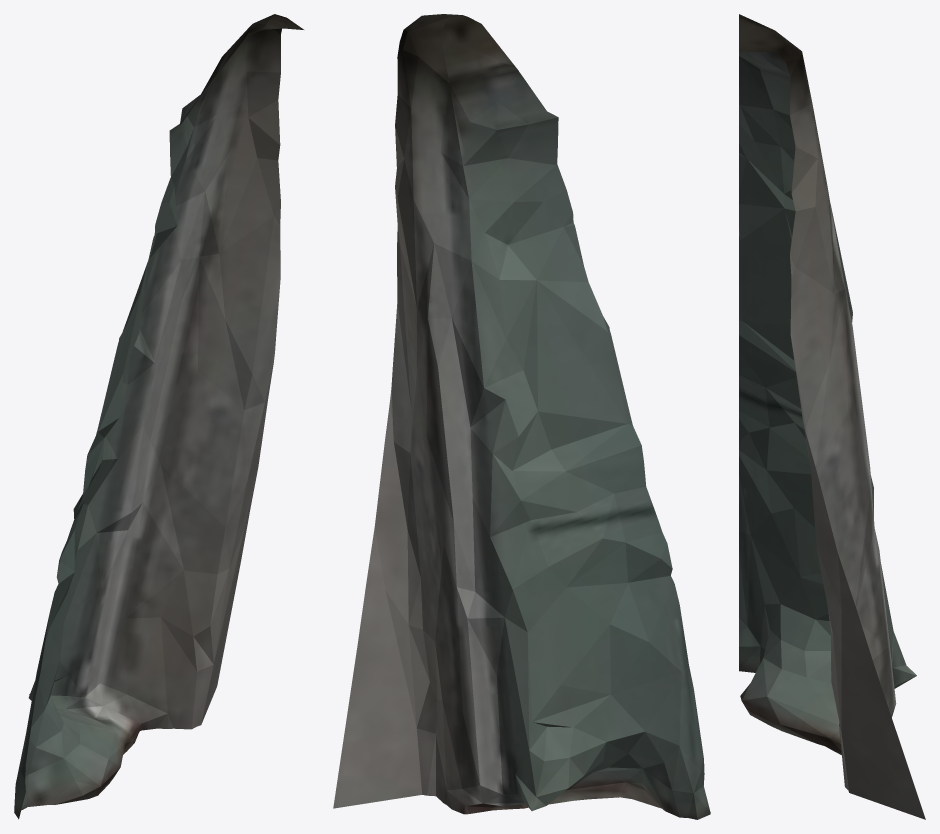
3 renders of one model, left to right at view 1: azimuth 30°, elevation 25°; view 2: azimuth 150°, elevation 25°; view 3: azimuth 270°, elevation 25°, orthographic. The views are drawn at different scales.
Bounding box in the file's own units: 0.481 × 1.17 × 0.2553.
1 material, 1 textured.
